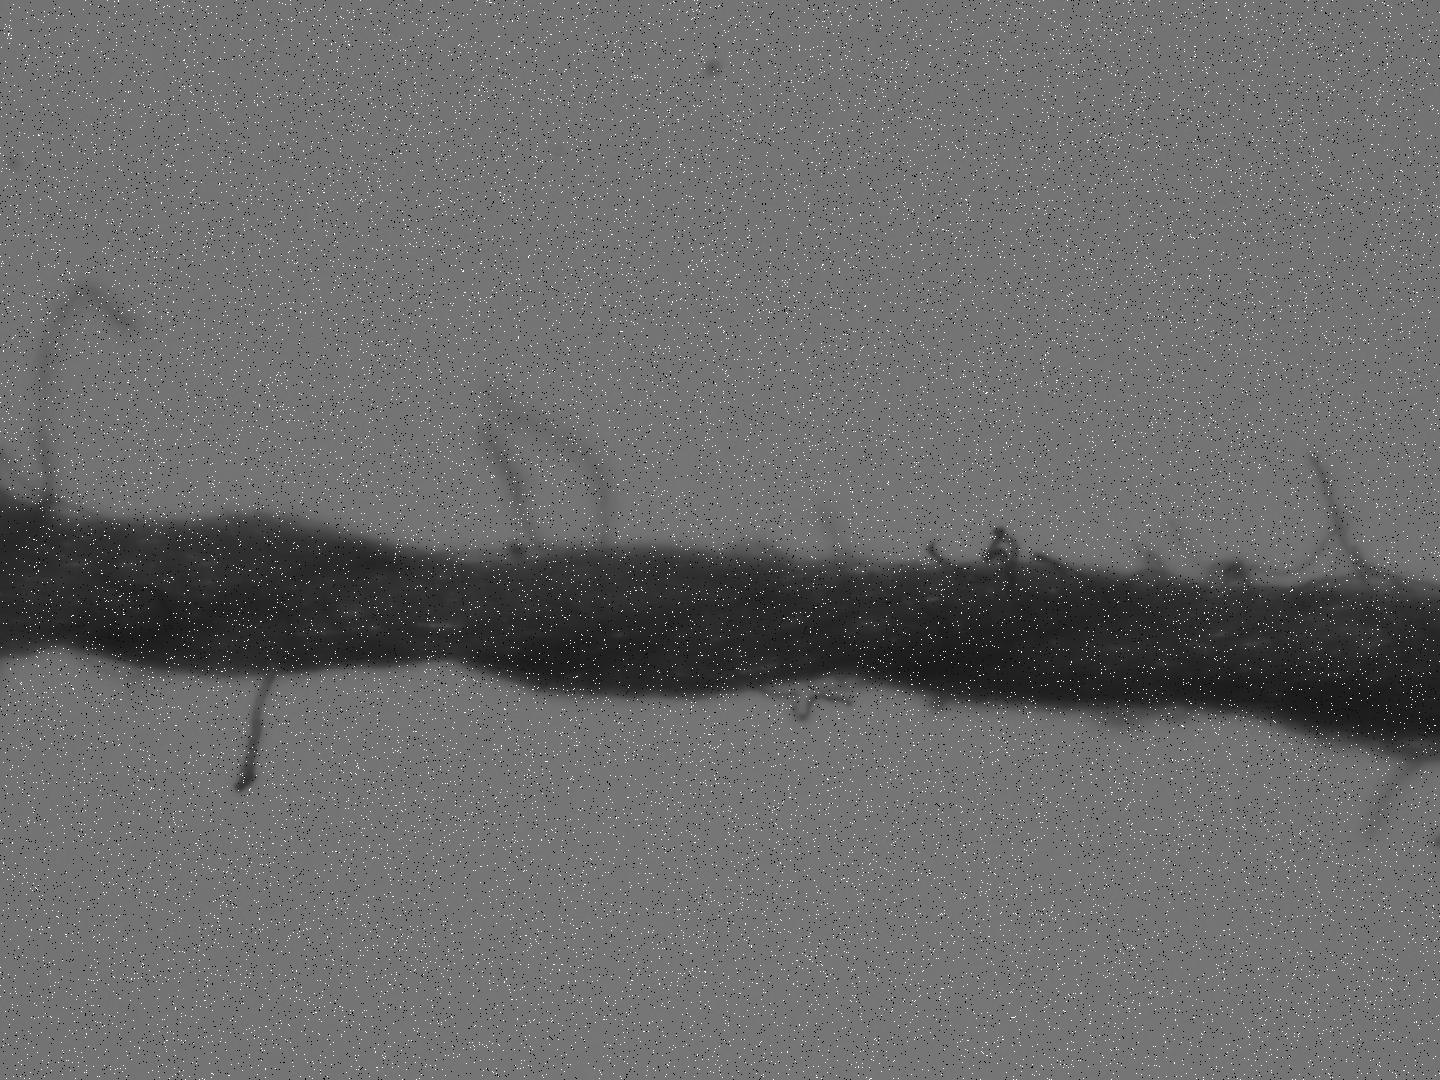loop_fiber: (1196, 456, 1438, 593), (1308, 719, 1440, 765), (1083, 704, 1198, 735), (66, 650, 168, 684), (723, 540, 796, 569), (1120, 542, 1172, 583), (831, 526, 874, 574), (979, 523, 1024, 565), (822, 504, 838, 526)
protruding_fiber: (33, 285, 150, 516), (481, 383, 612, 552), (477, 423, 551, 560), (230, 673, 282, 798), (1366, 748, 1426, 838), (740, 681, 849, 726), (925, 534, 959, 573)
